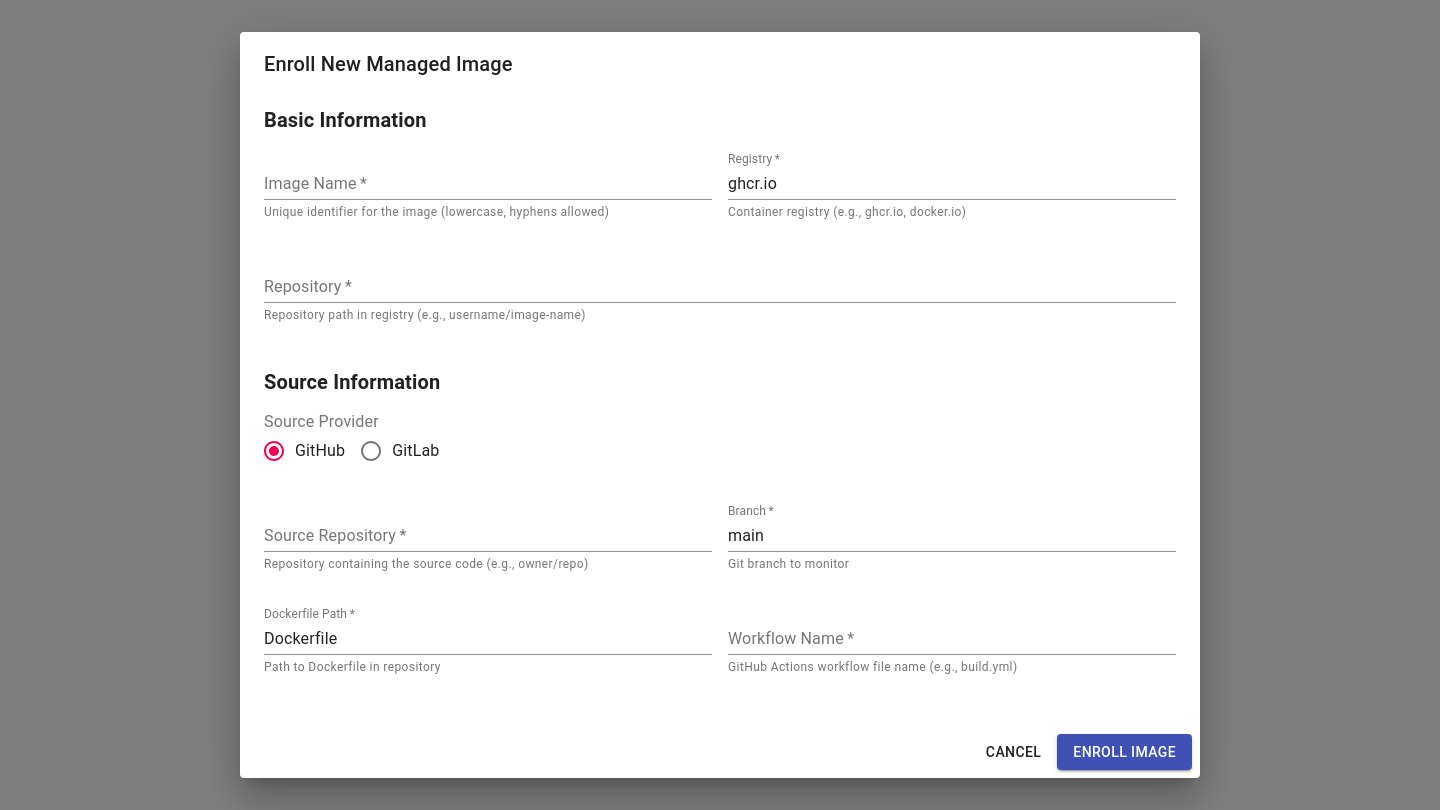
Scenario: EnrollImageDialog › shows validation errors for empty required fields
// Try to submit with empty form
Click the button "Enroll Image": x=1125, y=752 [1057, 734, 1192, 770]
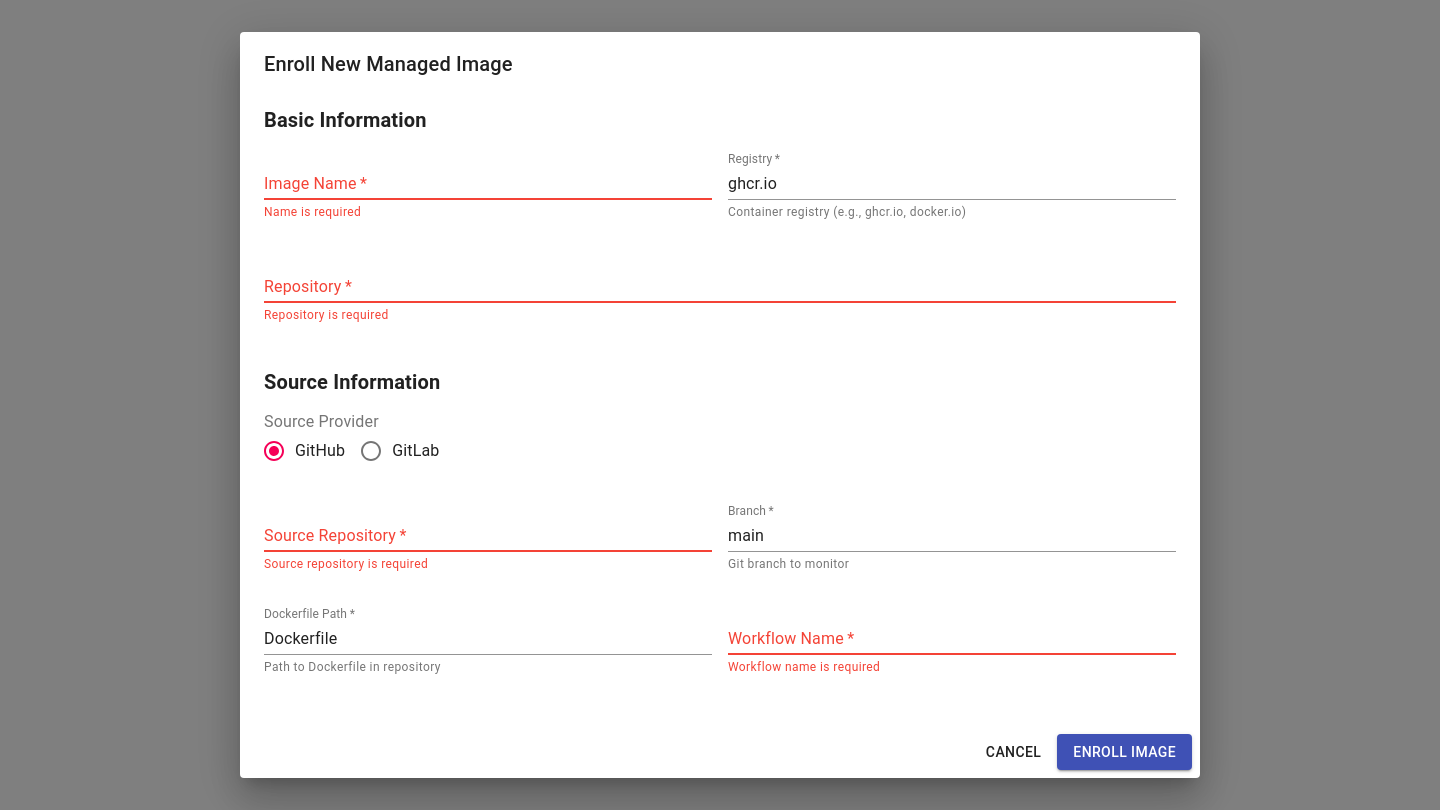
Result: the text "Name is required" is shown at [264, 205, 361, 219]
